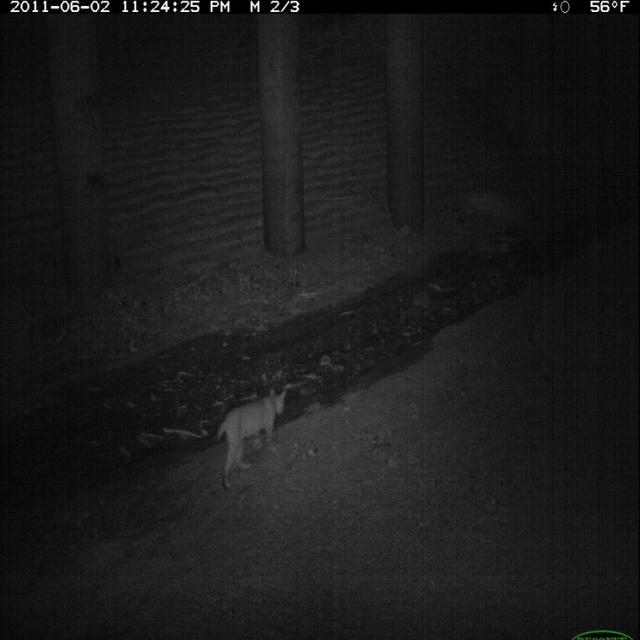bobcat: (211, 379, 292, 494)
